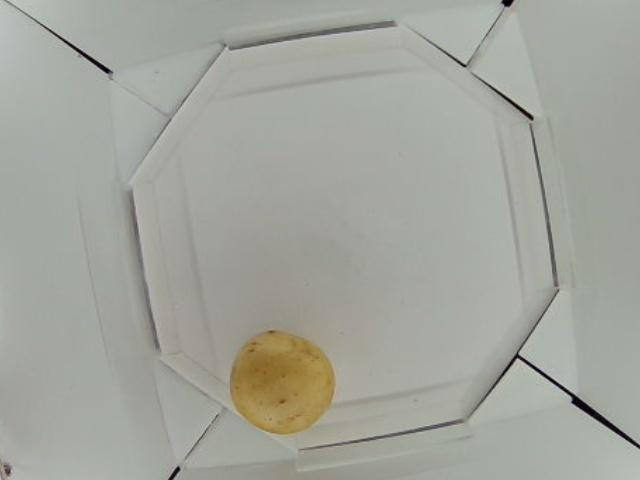Potato: (230, 328, 336, 443)
